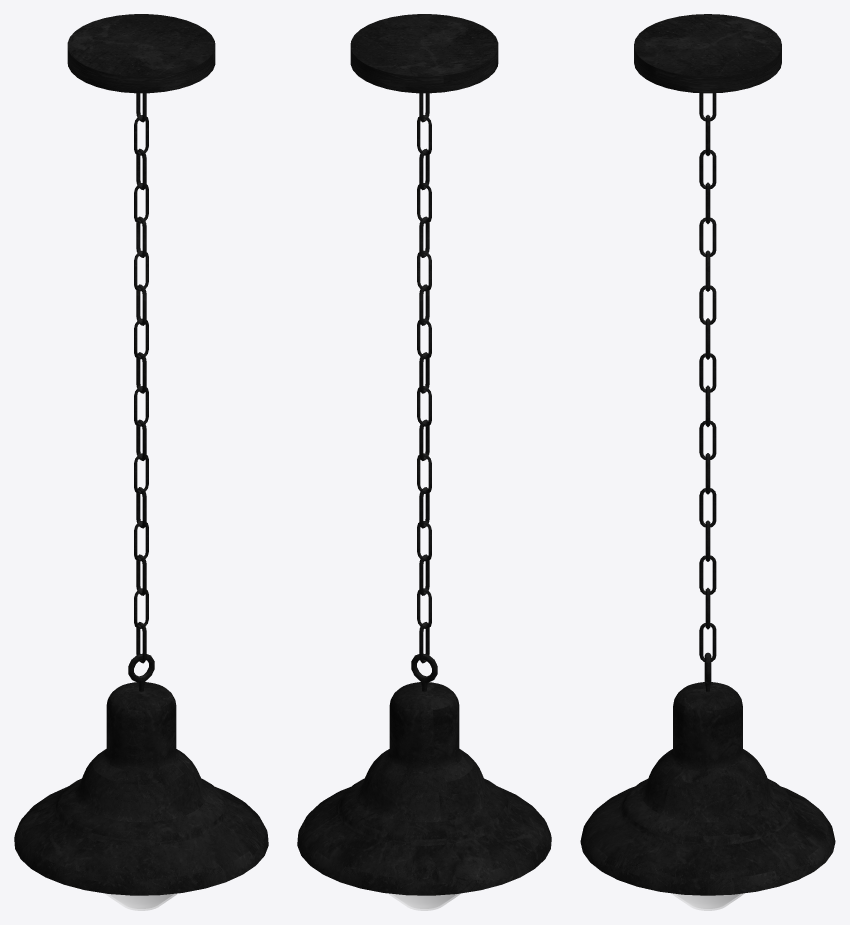
Rendered from cormorant-pendant-light.glb.
3 views of the same model, side by side, from view 1: azimuth 30°, elevation 25°; view 2: azimuth 150°, elevation 25°; view 3: azimuth 270°, elevation 25° (orthographic).
Visible parts, largest first — view 1: lamp, base, hanging, subscattering; view 2: lamp, base, hanging, subscattering; view 3: lamp, base, hanging, subscattering.
Part boxes in pixels (x1,y1,x2,y2): lamp: (14,682,268,895); base: (67,14,215,93); hanging: (128,93,154,691); subscattering: (106,893,177,910); lamp: (297,682,551,895); base: (350,14,498,93); hanging: (411,93,437,691); subscattering: (388,893,459,910); lamp: (580,682,835,895); base: (634,14,781,93); hanging: (699,93,716,691); subscattering: (672,893,743,910).
Bounding box in the file's own units: 0.3293 × 1.23 × 0.3293.
6 materials, 2 textured.
